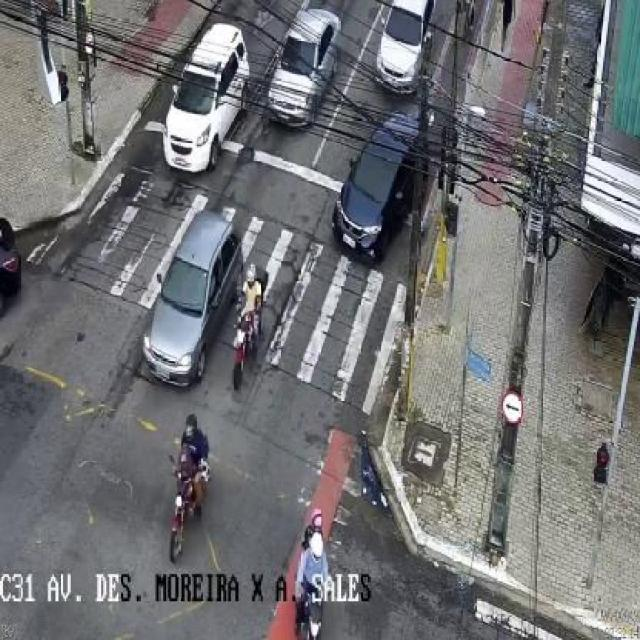Car: (322, 105, 448, 267), (143, 208, 237, 384), (254, 9, 348, 124), (369, 0, 440, 93)
Cycle: (154, 421, 238, 554), (222, 265, 286, 379)
Van: (156, 12, 258, 184)
